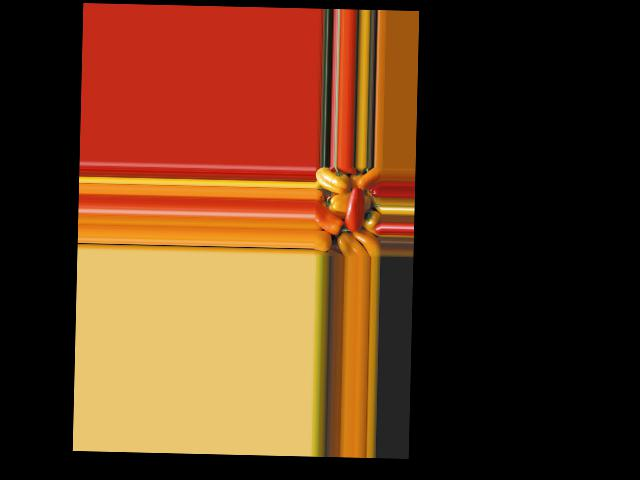bell_pepper: (316, 166, 347, 195)
